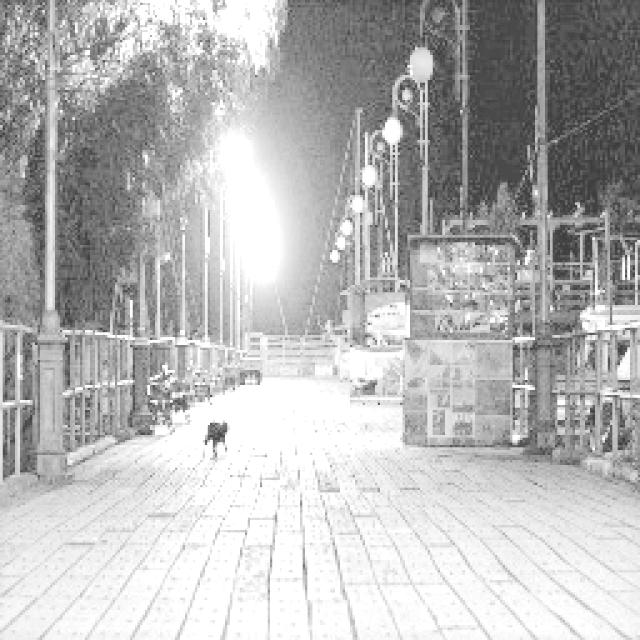cat: (199, 417, 234, 463)
